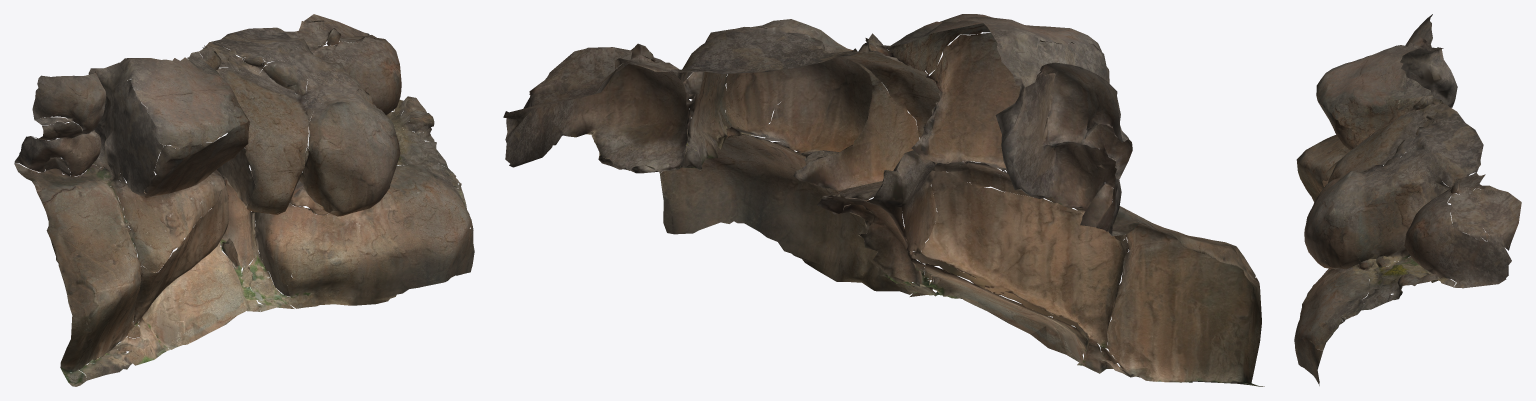
File: DesertCliff.glb
The picture shows the model from 3 angles, left to right: view 1: azimuth 30°, elevation 25°; view 2: azimuth 150°, elevation 25°; view 3: azimuth 270°, elevation 25°; orthographic projection. The views are drawn at different scales.
Visible parts, largest first — view 1: DesertCliff; view 2: DesertCliff; view 3: DesertCliff.
Boxes of the visible parts, x1,y1,x2,y2 form: DesertCliff: [14, 14, 474, 386]; DesertCliff: [503, 14, 1264, 386]; DesertCliff: [1294, 14, 1521, 385].
Size of the model in its own units: 8.27 by 4.96 by 4.39.
1 material, 1 textured.
